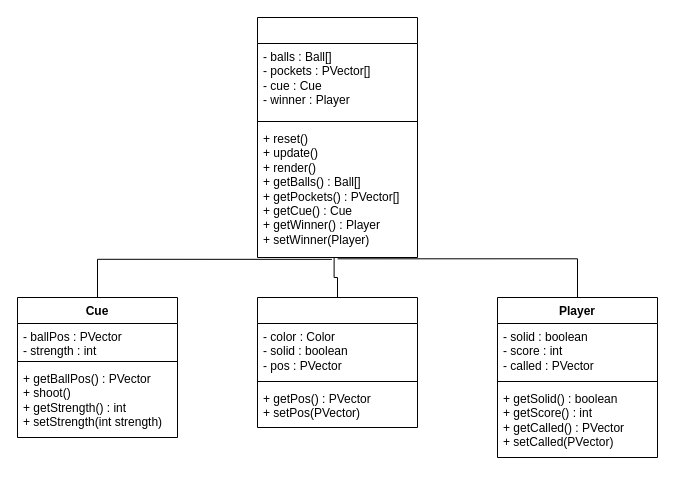
Image size: 675x478. Some labels were removed from this diagram. The box of each missing label's shape, as (x1, y1, x2, y2) in pixels:
Ball: (256, 296, 418, 428)
Game: (256, 16, 418, 258)
